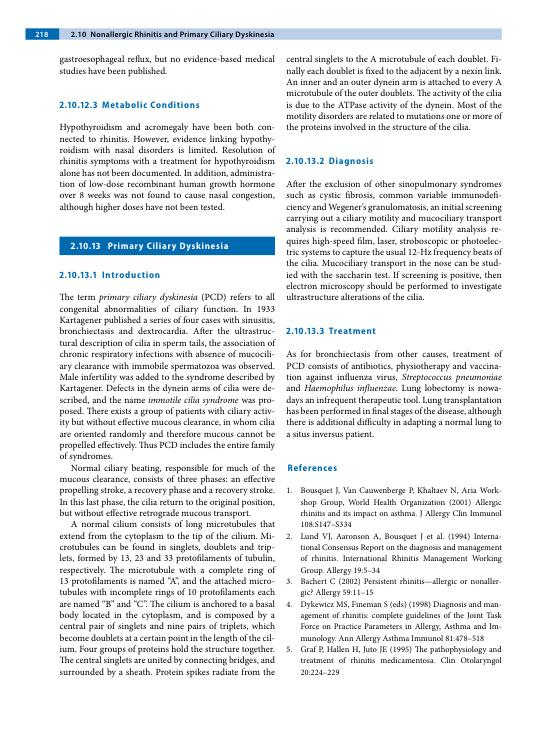header: (89, 30, 275, 39)
list: (285, 485, 503, 677)
section-heading: (108, 241, 229, 252)
sub-section-heading: (101, 100, 201, 109), (101, 270, 161, 280), (287, 462, 338, 472), (328, 156, 374, 167), (327, 326, 377, 335)
text: (57, 292, 276, 678), (285, 179, 504, 302), (285, 348, 503, 441), (58, 122, 278, 214), (285, 54, 504, 134), (58, 54, 276, 78)
